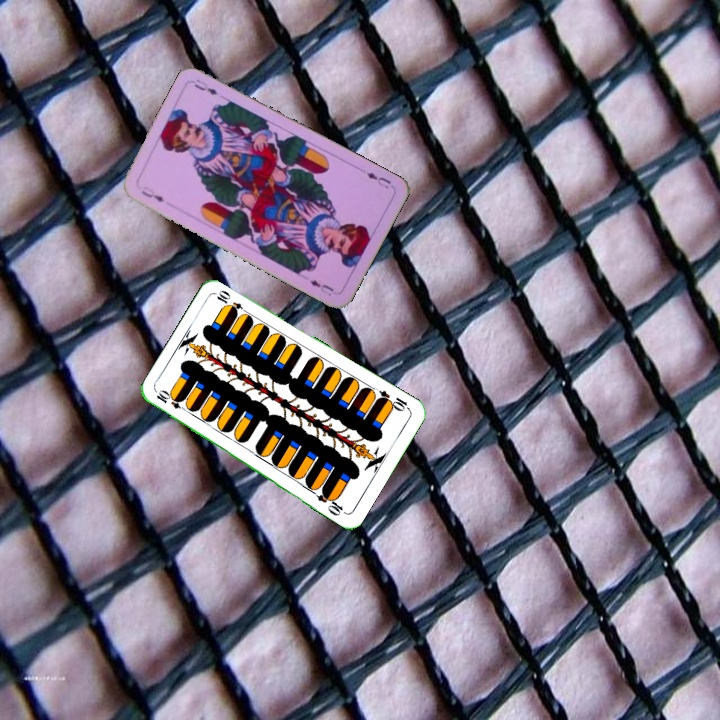E10: (373, 386, 412, 414), (152, 388, 190, 415)
EU: (362, 168, 393, 191), (137, 182, 167, 205)
